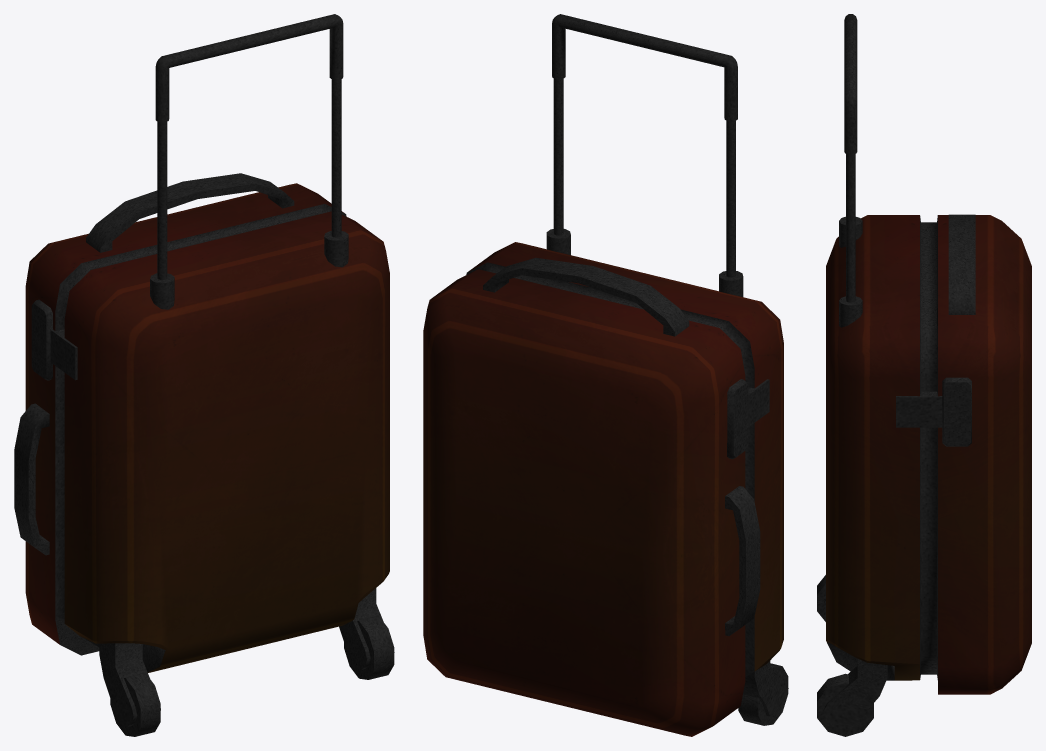
File: suitcase_11.fbx
3 renders of one model, left to right at view 1: azimuth 30°, elevation 25°; view 2: azimuth 150°, elevation 25°; view 3: azimuth 270°, elevation 25°, orthographic. The views are drawn at different scales.
Visible parts, largest first — view 1: suitcase_11; view 2: suitcase_11; view 3: suitcase_11.
Boxes of the visible parts, x1,y1,x2,y2 form: suitcase_11: (14,14,394,736); suitcase_11: (423,14,788,736); suitcase_11: (817,14,1031,736).
Size of the model in its own units: 0.7382 by 1.46 by 0.4539.
